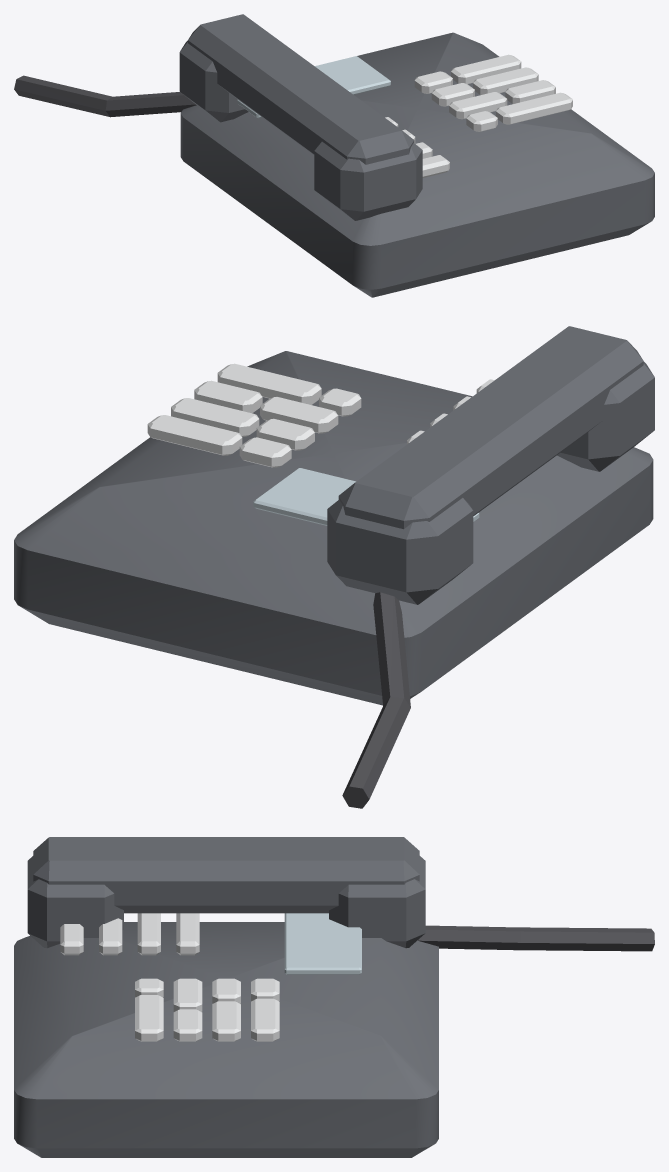
The model's file is police-station-and-detective-office-desk-telephone-dfffc350__29959.glb.
3 renders of one model, top to bottom at view 1: azimuth 30°, elevation 25°; view 2: azimuth 150°, elevation 25°; view 3: azimuth 270°, elevation 25°, orthographic. The views are drawn at different scales.
Parts seen in each view (by area): view 1: desk-telephone; view 2: desk-telephone; view 3: desk-telephone.
Part boxes in pixels (x1,y1,x2,y2): desk-telephone: (14,14,654,297); desk-telephone: (14,326,654,808); desk-telephone: (14,837,654,1157).
Bounding box in the file's own units: 0.2438 × 0.1 × 0.3317.
